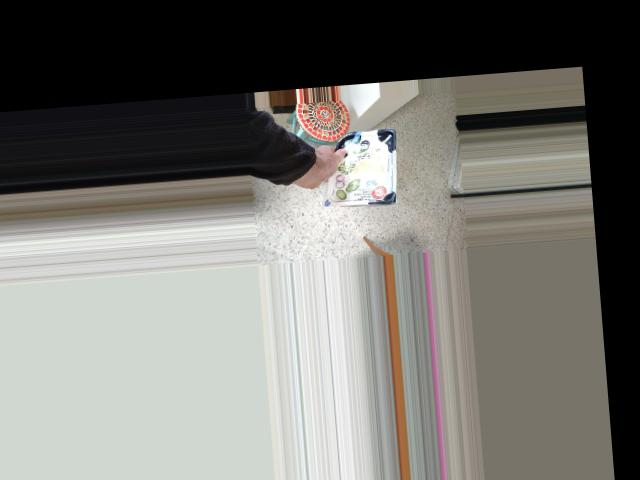cheese: (295, 119, 398, 221)
